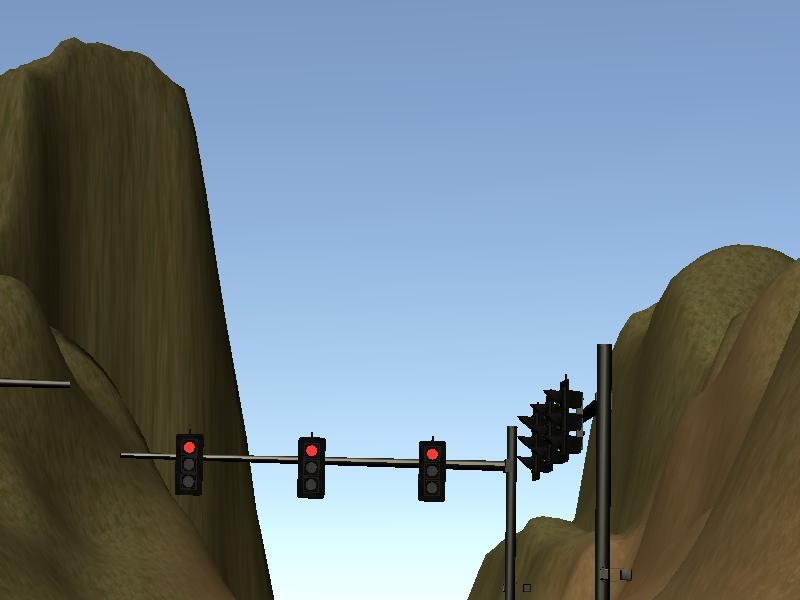RED: (296, 436, 327, 500), (416, 440, 447, 504), (175, 435, 203, 495)
